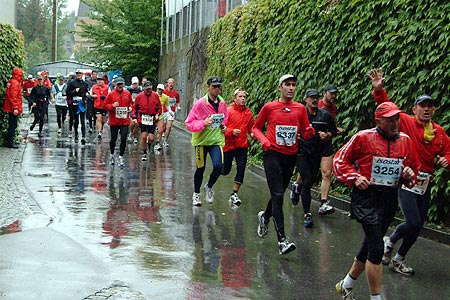person: (333, 103, 422, 297), (253, 75, 316, 256), (187, 79, 228, 207), (104, 80, 135, 164)
